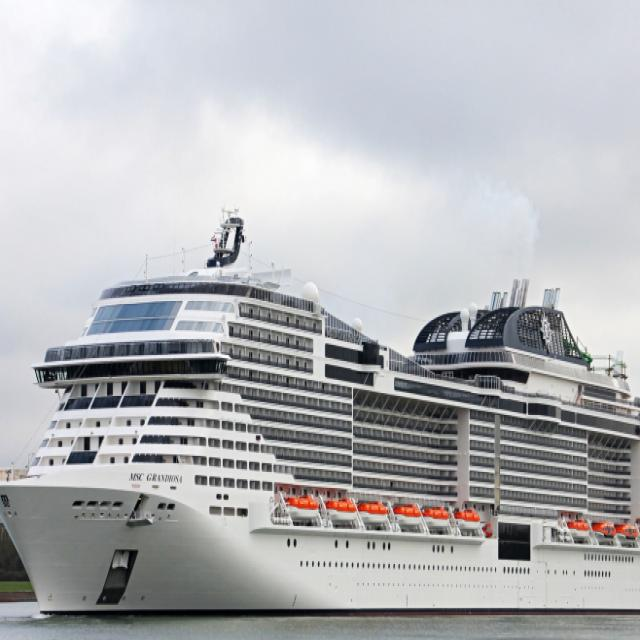cruises: (1, 209, 640, 632)
